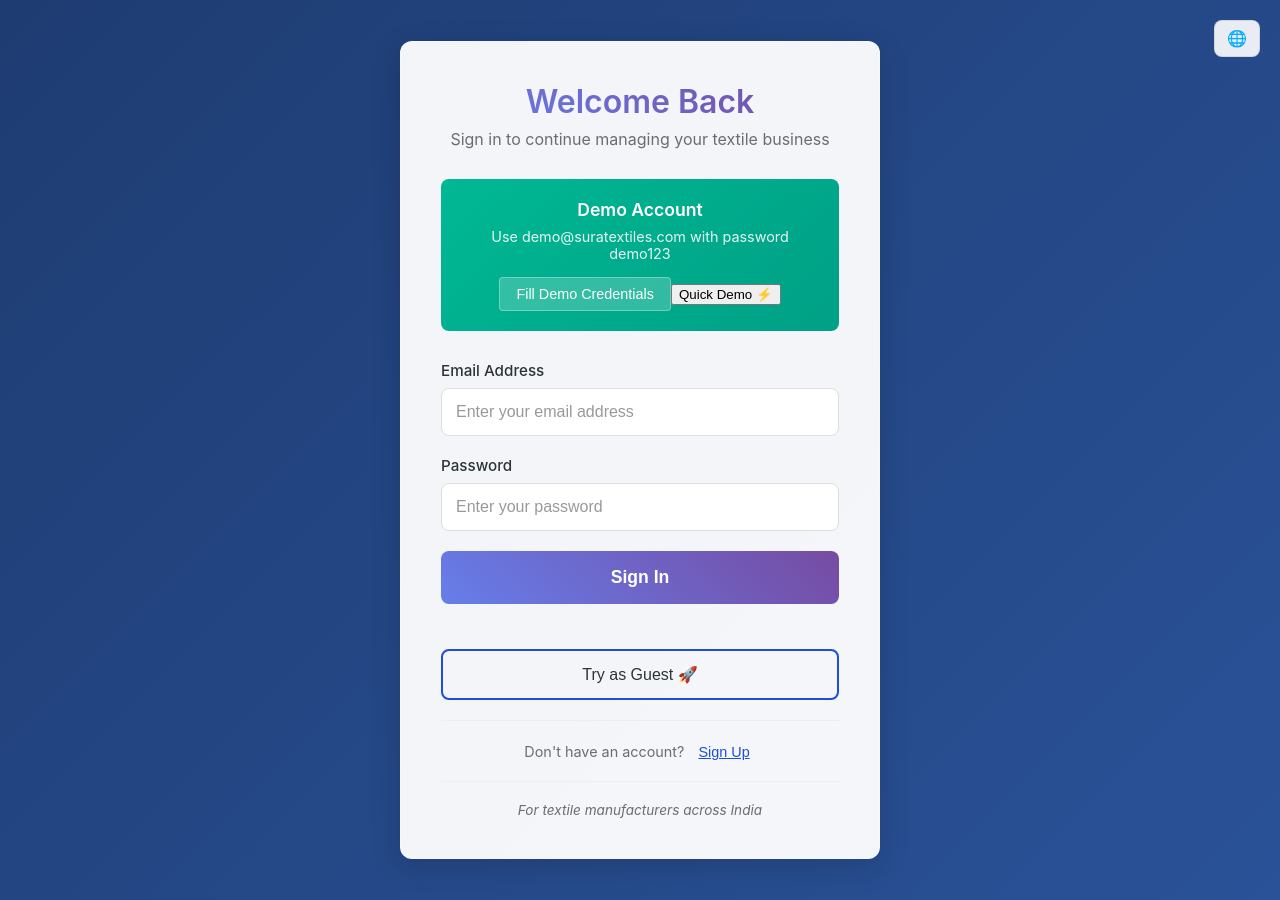
Test case: Login Component › Authentication Logic › should disable submit button during loading
Type "demo@suratextiles.com" into the field labelled "Email Address" at (640, 412), box [441, 388, 839, 436]
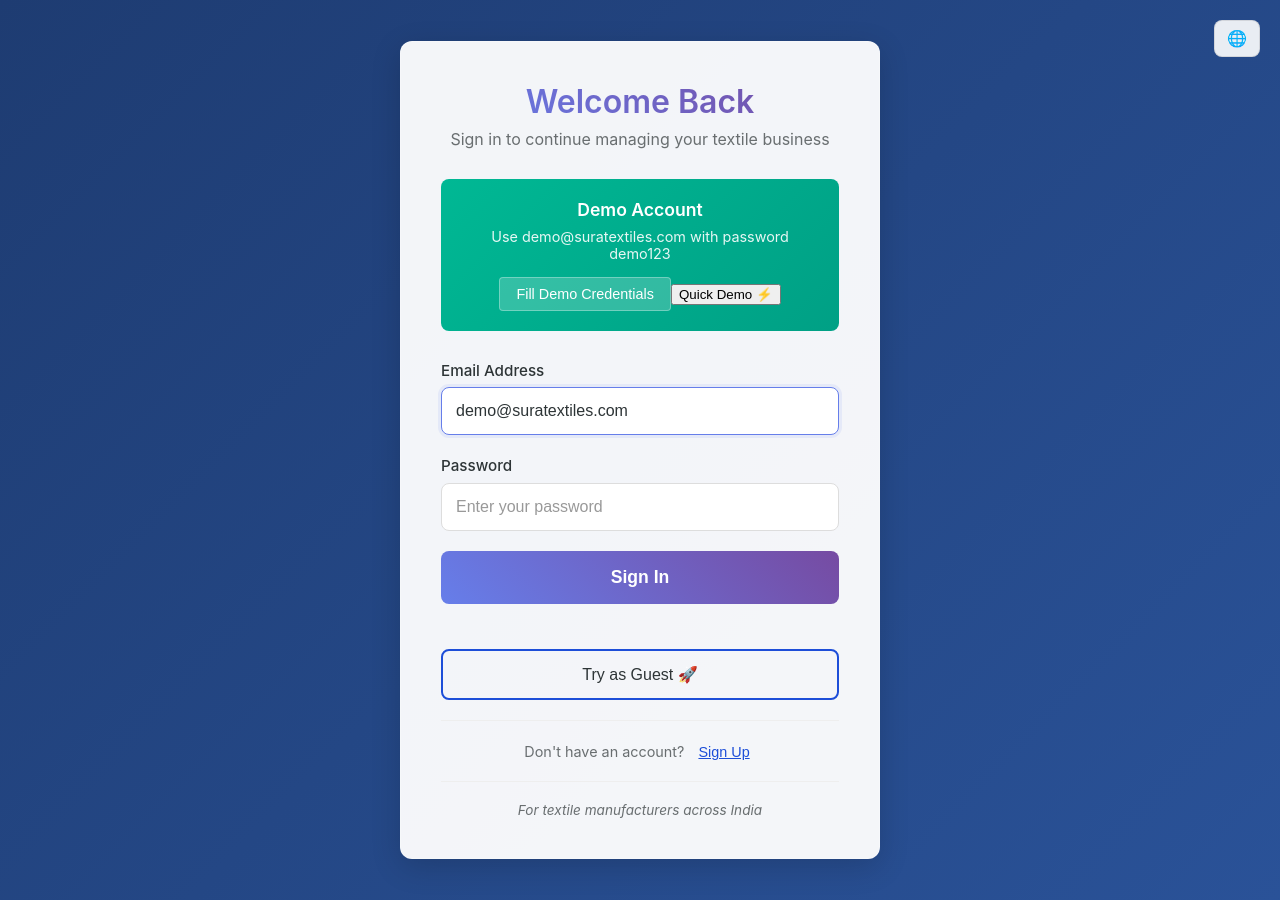
Type "demo123" into the password field labelled "Password" at (640, 507), box [441, 483, 839, 531]
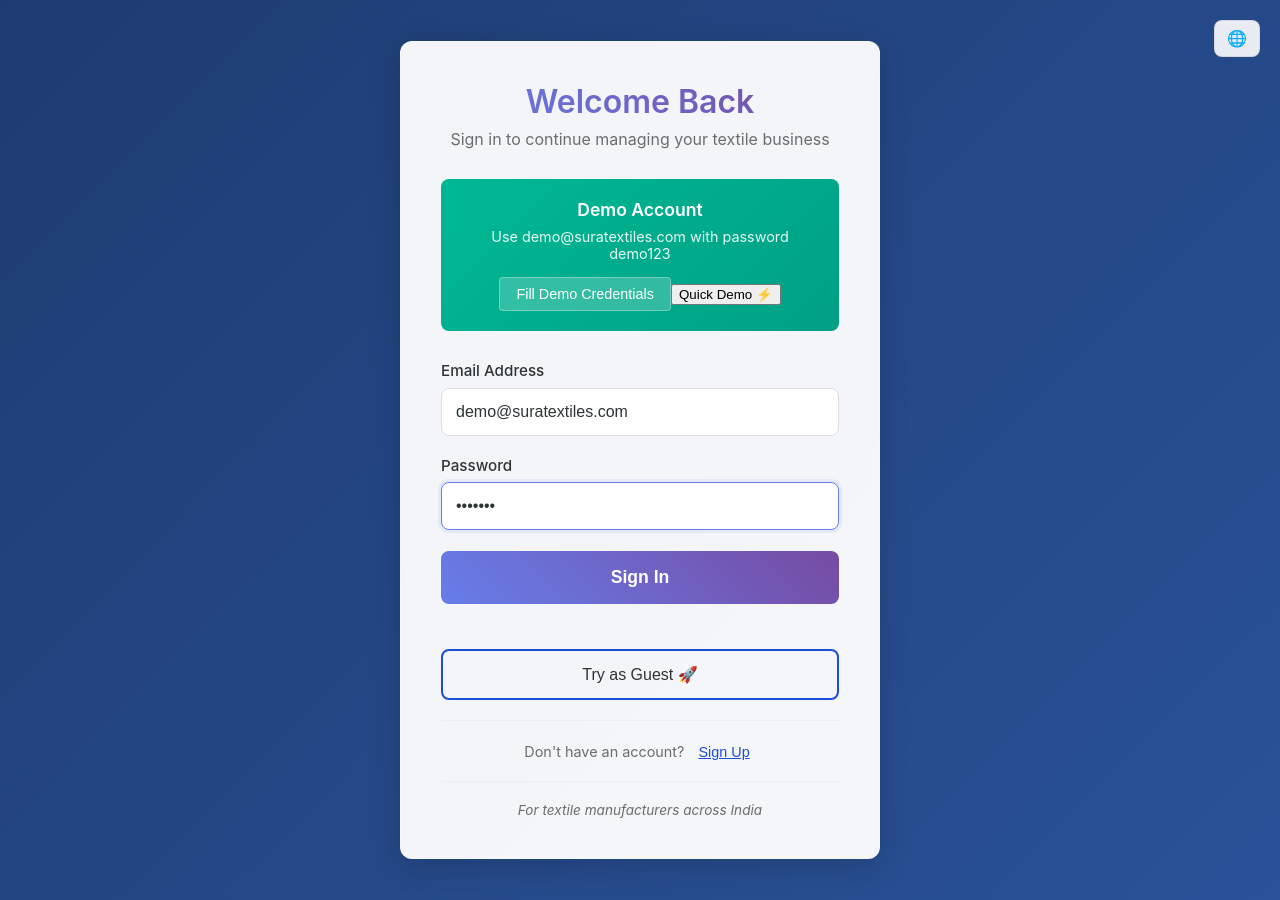
Click the button "Sign In" at (640, 578), box [441, 551, 839, 604]
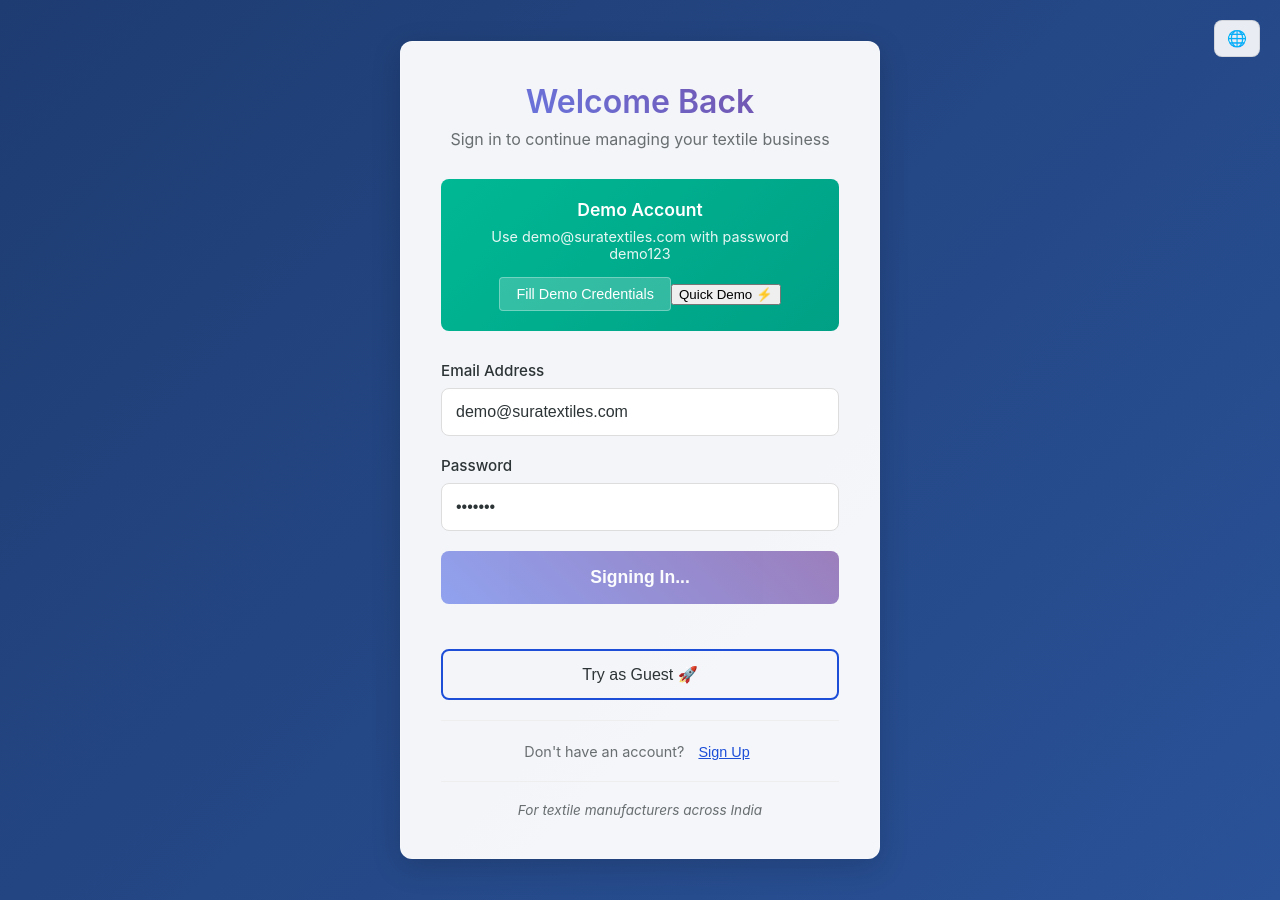
expect the button named "sign in" is disabled: met, box [441, 551, 839, 604]
